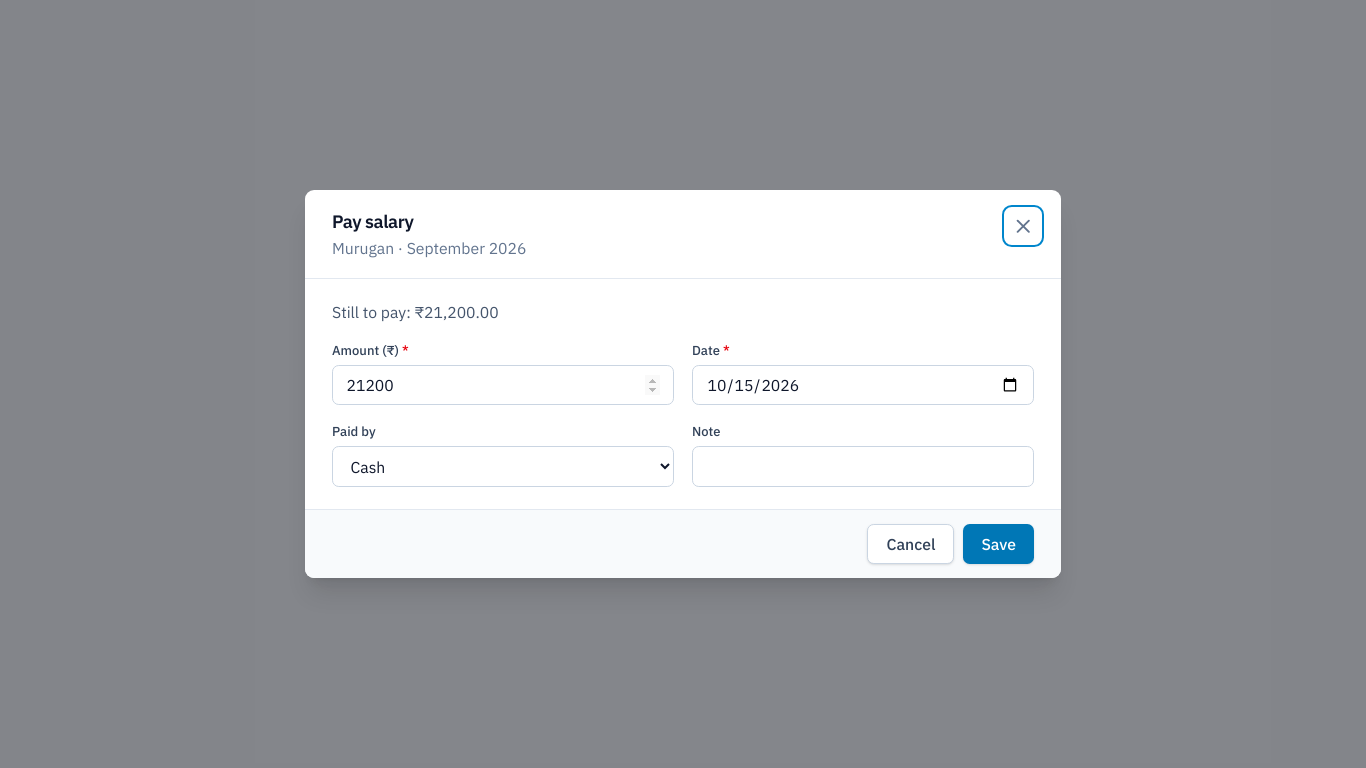
Scenario: paying salary › counts a little extra as paid when finishing
Replace the text in the number field labelled "Amount" with "21250" at (503, 385), box [332,365,674,405]
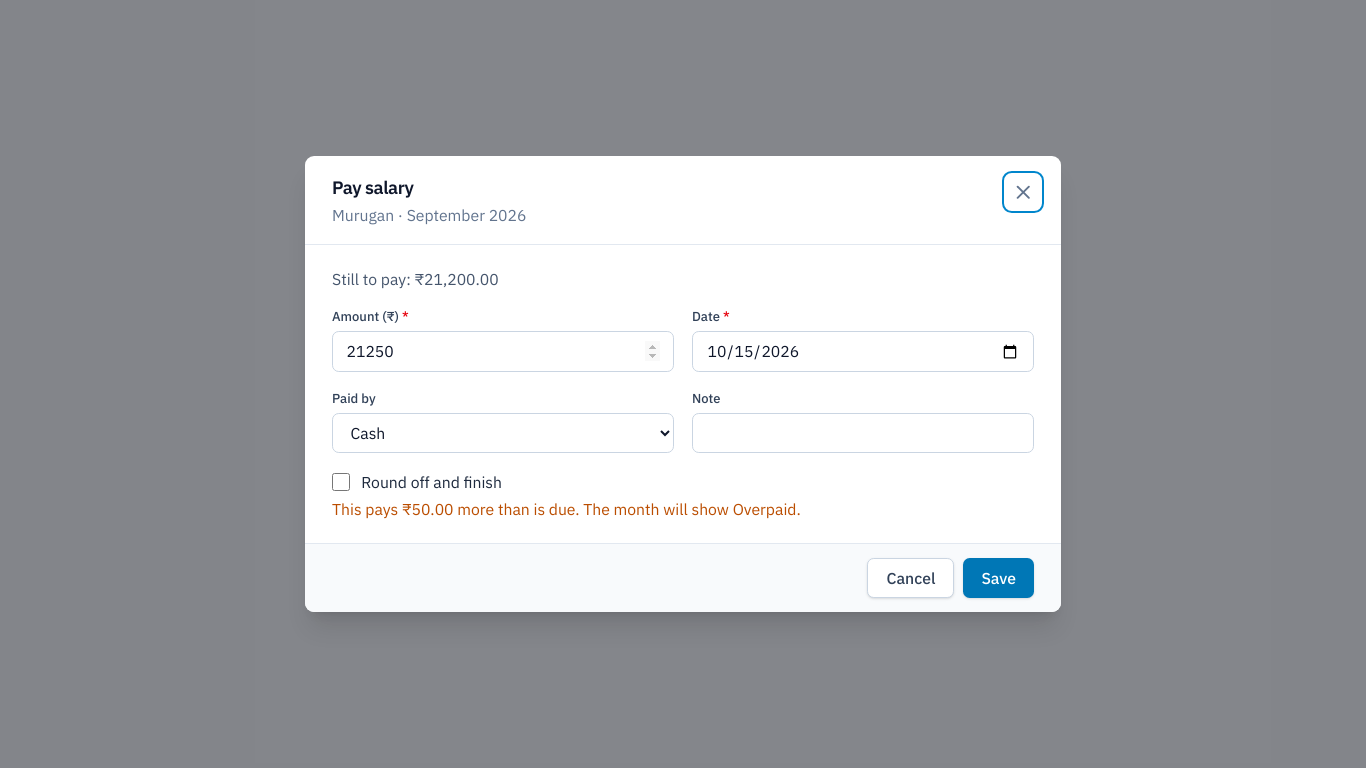
Expected: the text "This pays ₹50.00 more than is due. The month will show Overpaid." is shown, [332,499,801,519]
Click the checkbox labelled "Round off and finish" at (341, 482), box [332,473,350,491]
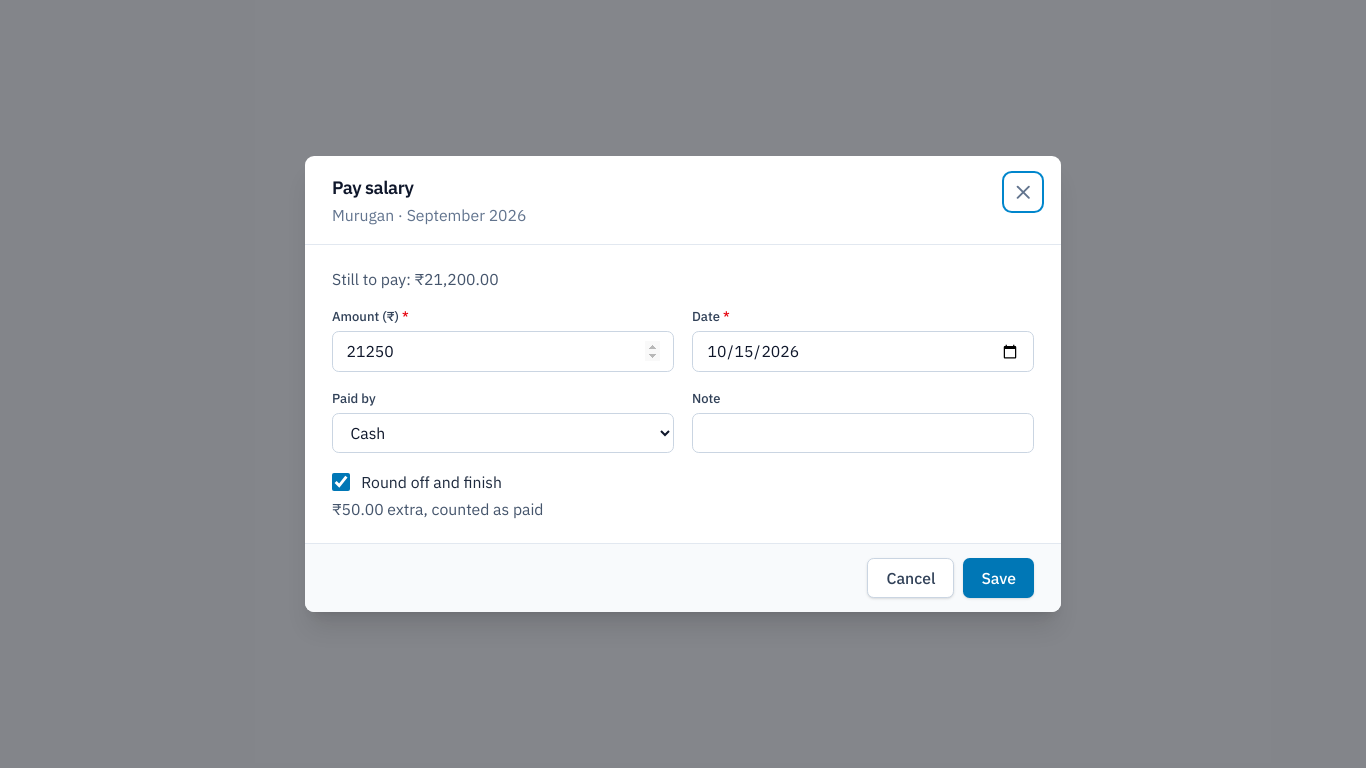
Expected: the text "₹50.00 extra, counted as paid" is shown, [332,499,544,519]
